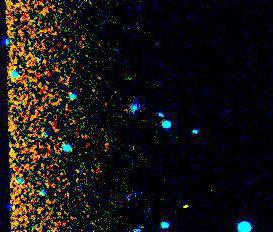star: (171, 190, 201, 220)
